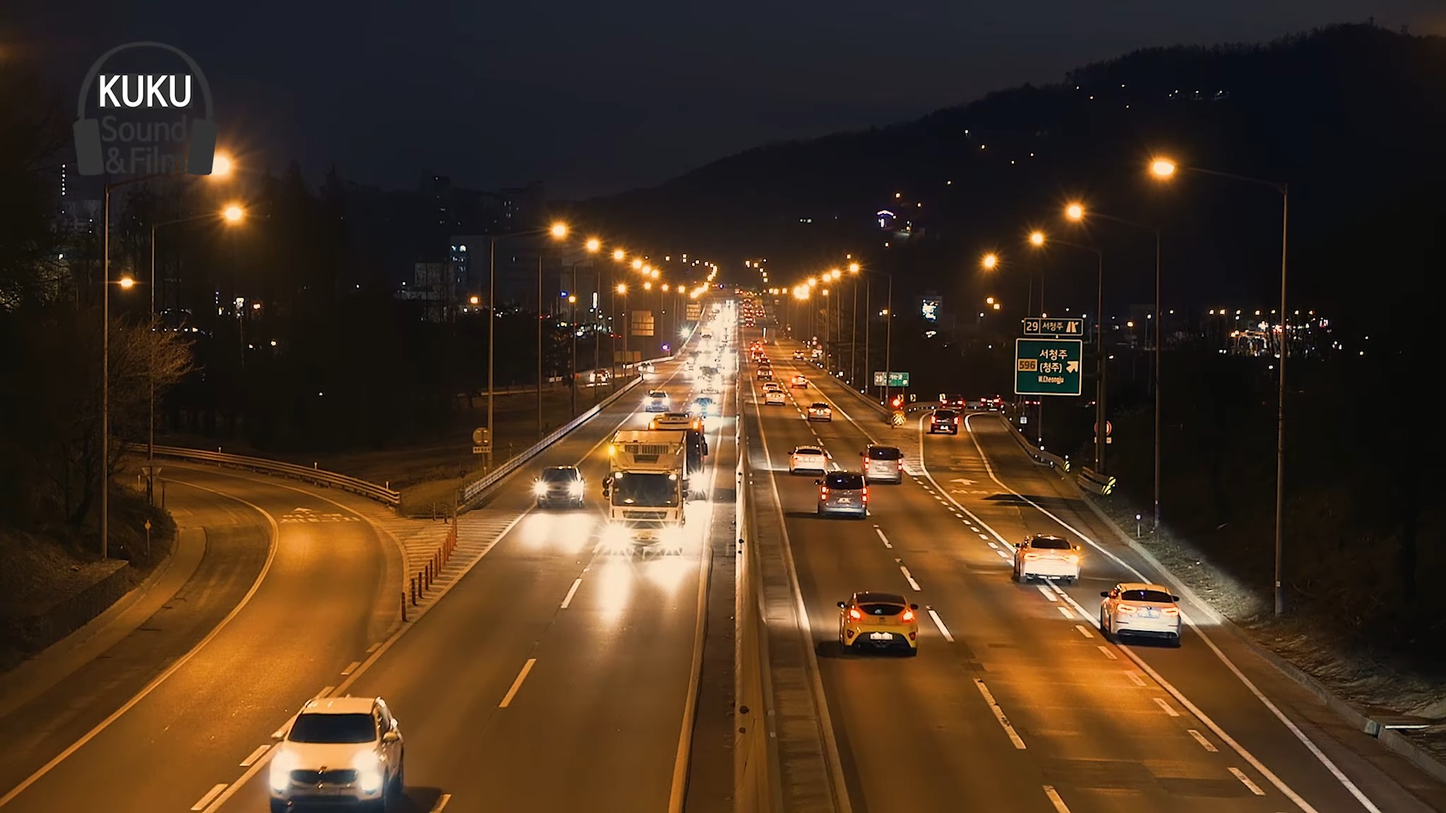car: (267, 695, 404, 813), (833, 593, 925, 649), (1104, 583, 1183, 644), (1010, 533, 1087, 591), (532, 463, 588, 509)
truck: (599, 432, 696, 567), (818, 466, 873, 515)
